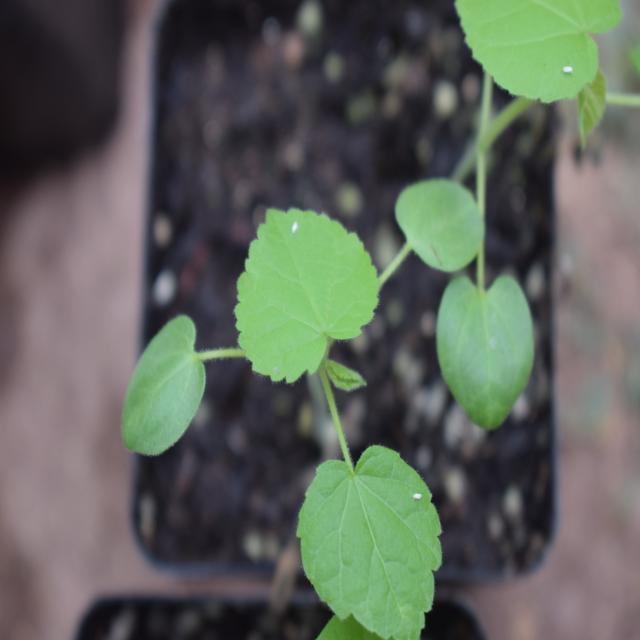abutilon theophrasti: (134, 155, 496, 628)
